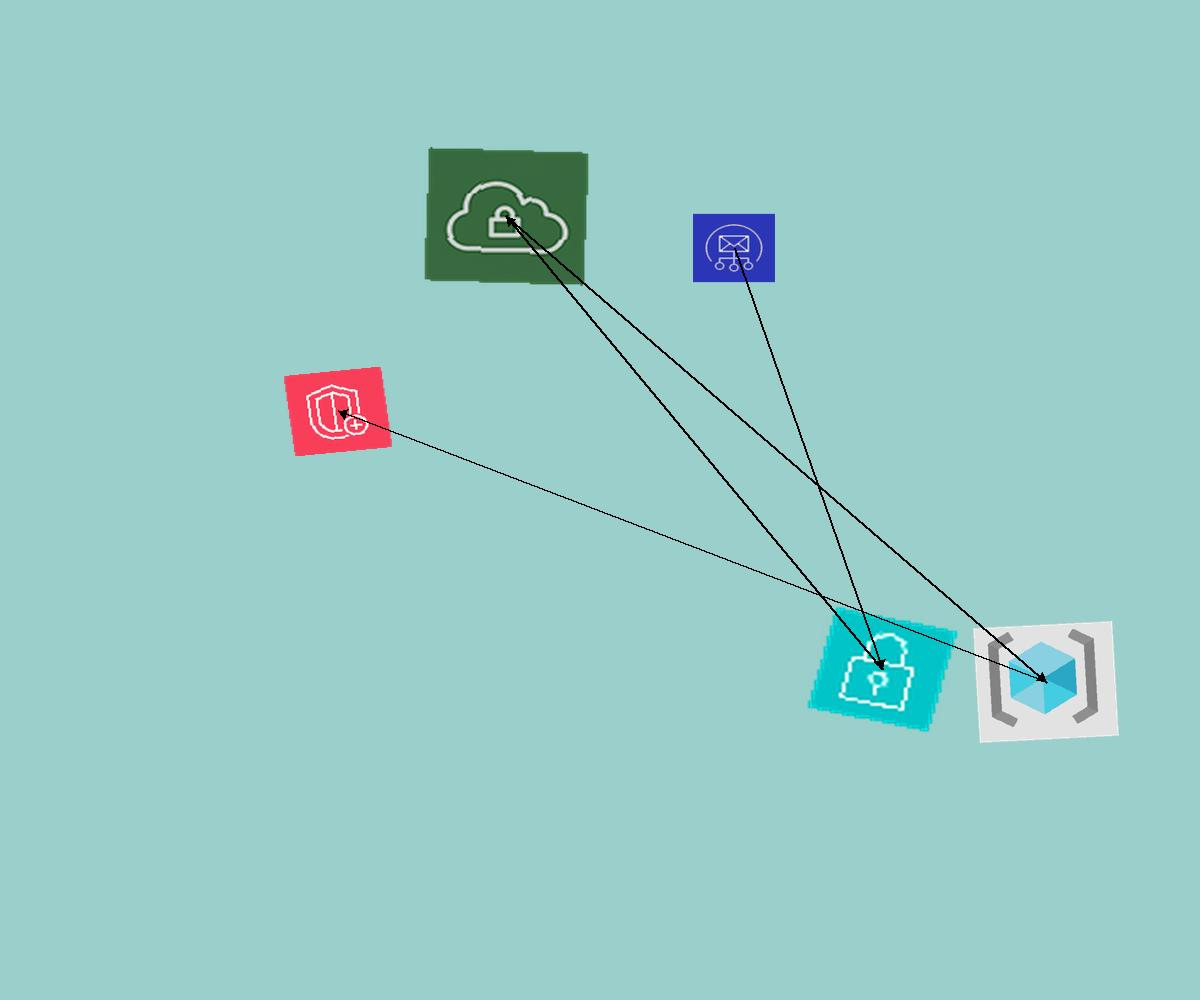AWS-Private-subnet: (805, 605, 960, 734)
AWS-Private_vpc: (423, 147, 590, 286)
AWS-Shield: (283, 366, 393, 457)
AWS-Simple-Email-Service: (692, 213, 776, 283)
Azure_resource_group: (973, 621, 1119, 743)
